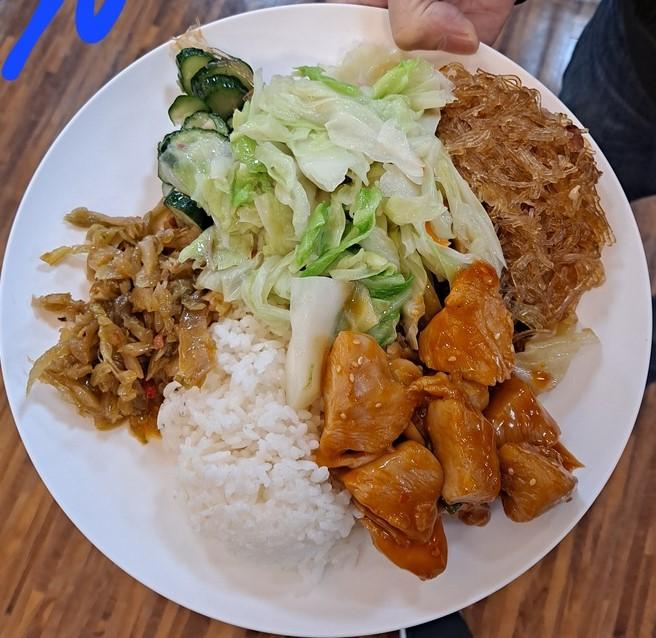big fried chicken leg: (6, 0, 656, 638)
big herbal chicken leg: (165, 316, 359, 578)
braised fish fillet: (206, 56, 509, 346), (24, 206, 210, 442), (443, 66, 609, 330), (160, 39, 252, 231)
braised pork: (316, 260, 583, 585)
